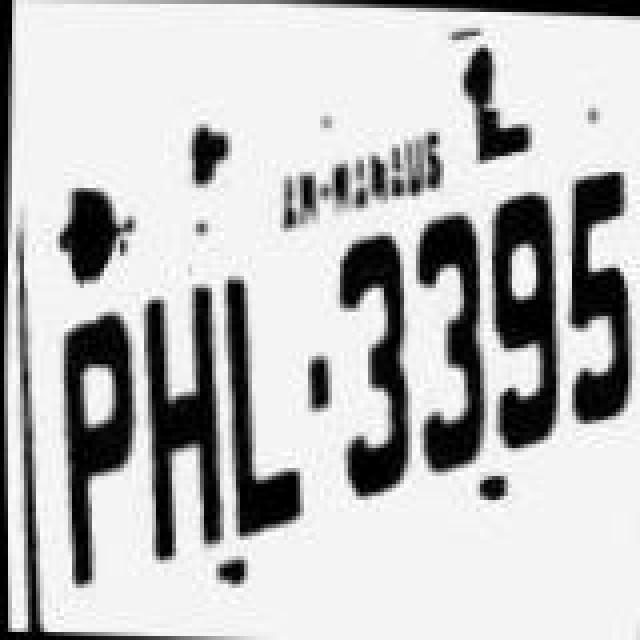3: (326, 224, 414, 504), (408, 202, 496, 474)
5: (552, 164, 640, 440)
9: (476, 174, 564, 454)
H: (132, 280, 228, 564)
L: (212, 262, 304, 538)
P: (48, 304, 140, 592)
